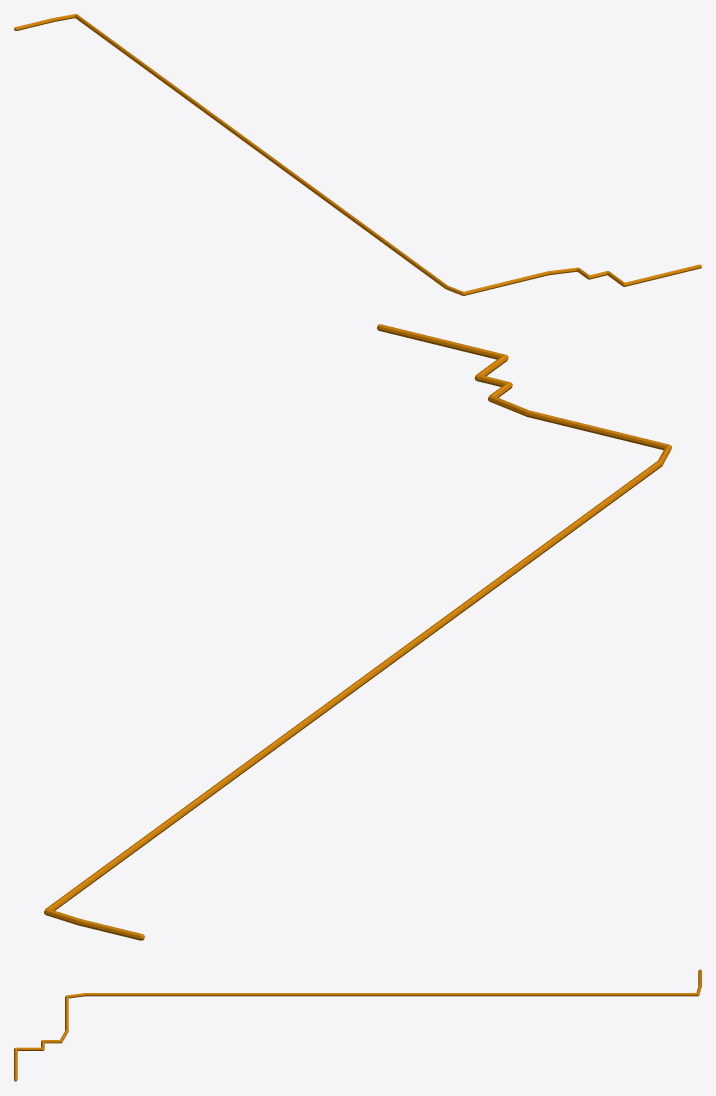
The picture shows the model from 3 angles, top to bottom: view 1: azimuth 30°, elevation 25°; view 2: azimuth 150°, elevation 25°; view 3: azimuth 270°, elevation 25°; orthographic projection. The views are drawn at different scales.
Size of the model in its own units: 1447 by 20 by 3818.
